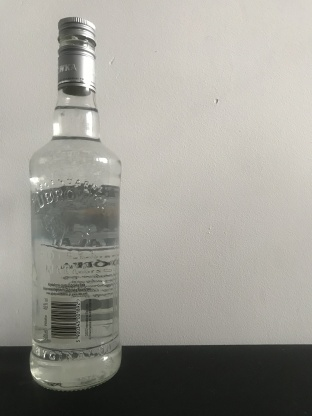nakretka: (56, 15, 97, 96)
